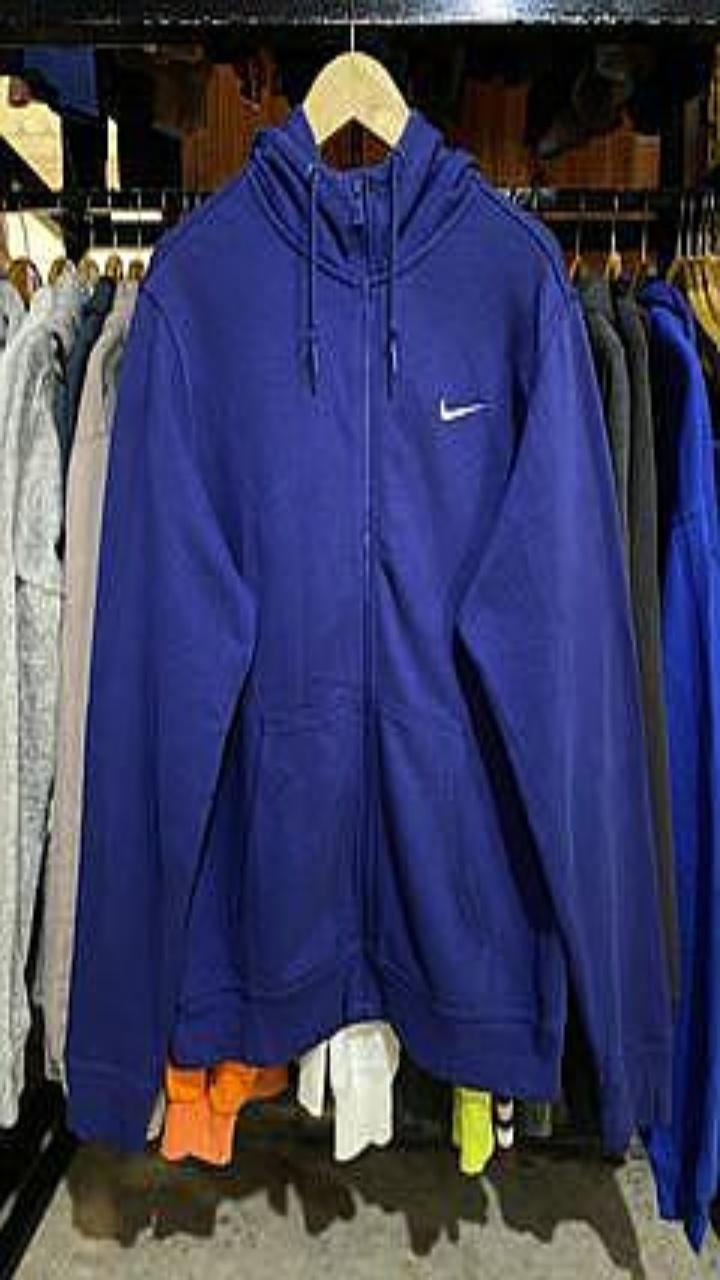Hoodie: (68, 110, 669, 1147), (643, 282, 719, 1247)
